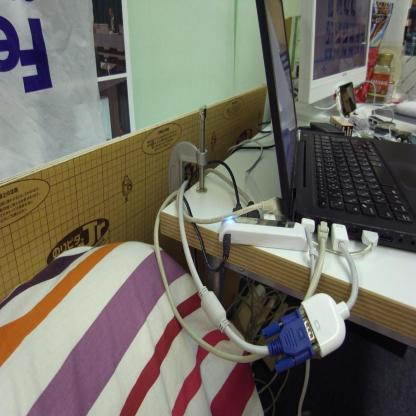board: (254, 0, 416, 237), (366, 52, 393, 104)
